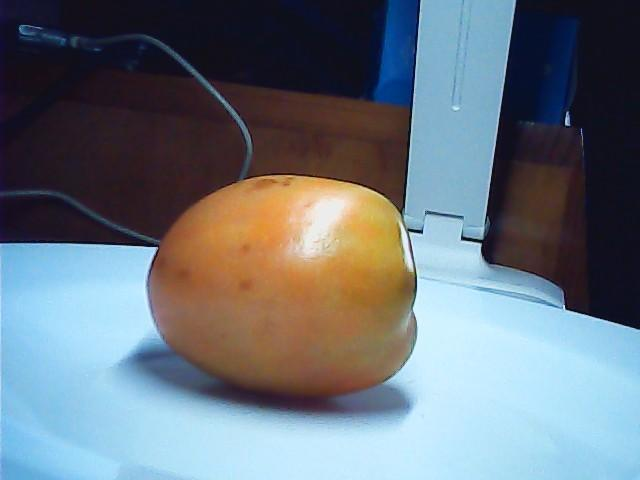verde: (146, 171, 419, 409)
